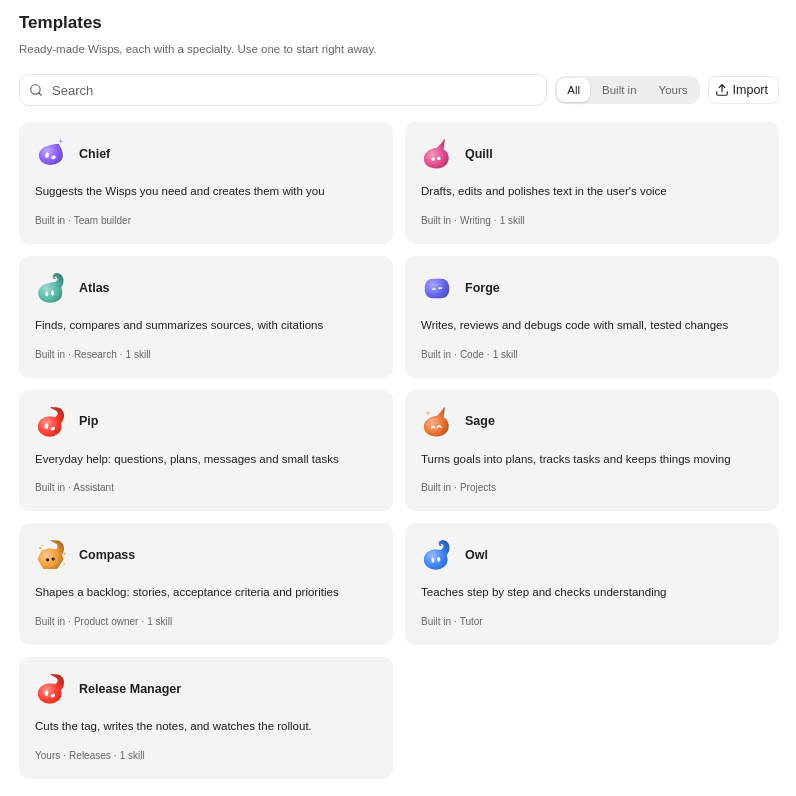
Test: lists built-in and saved templates as cards, filtered by search and by who made them
Expected: the button with aria-label "Preview Atlas" is shown, [79, 278, 377, 297]
Expected: the text "Built in · Research · 1 skill" is shown, [35, 347, 151, 362]
Type "rollout" into the field named "Search templates" at (283, 90), box [19, 74, 547, 106]
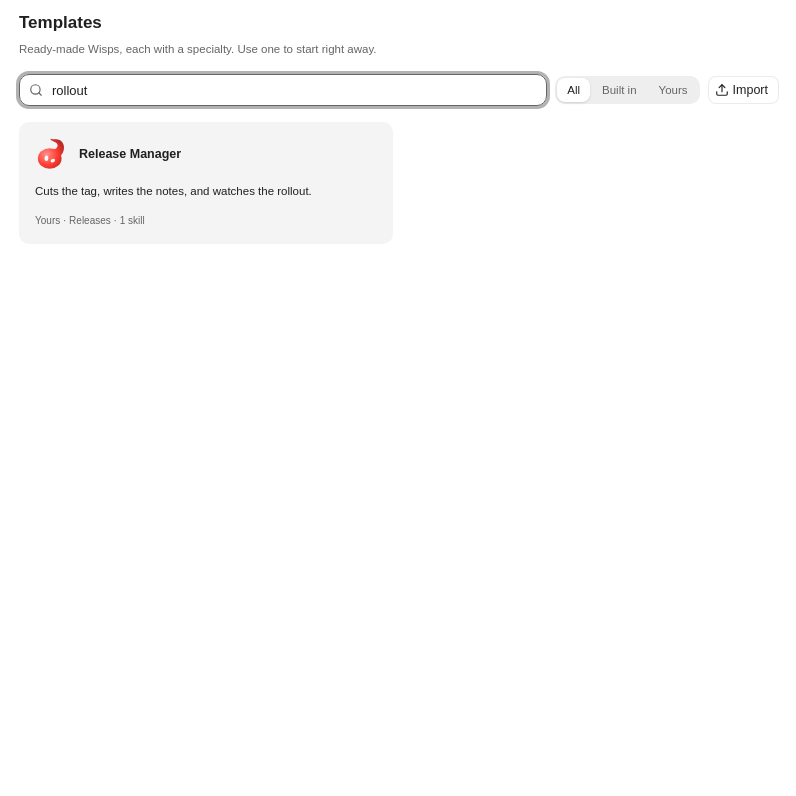
Now the number of list items is 1, box [19, 122, 393, 244]
Clear the field named "Search templates" at (283, 90), box [19, 74, 547, 106]
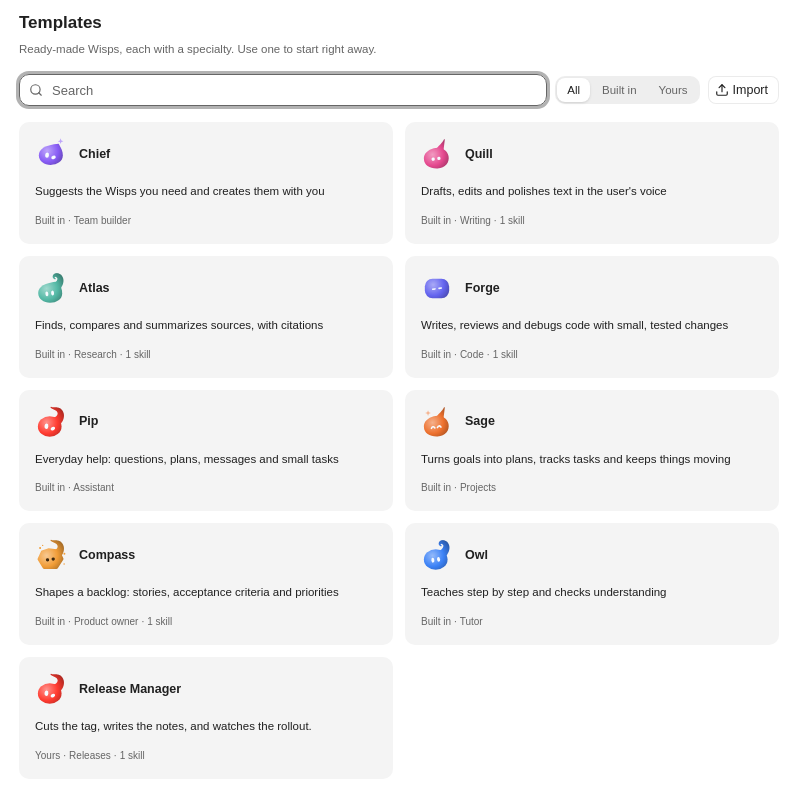
Click the radio button labelled "Yours" at (673, 90), box [649, 78, 698, 102]
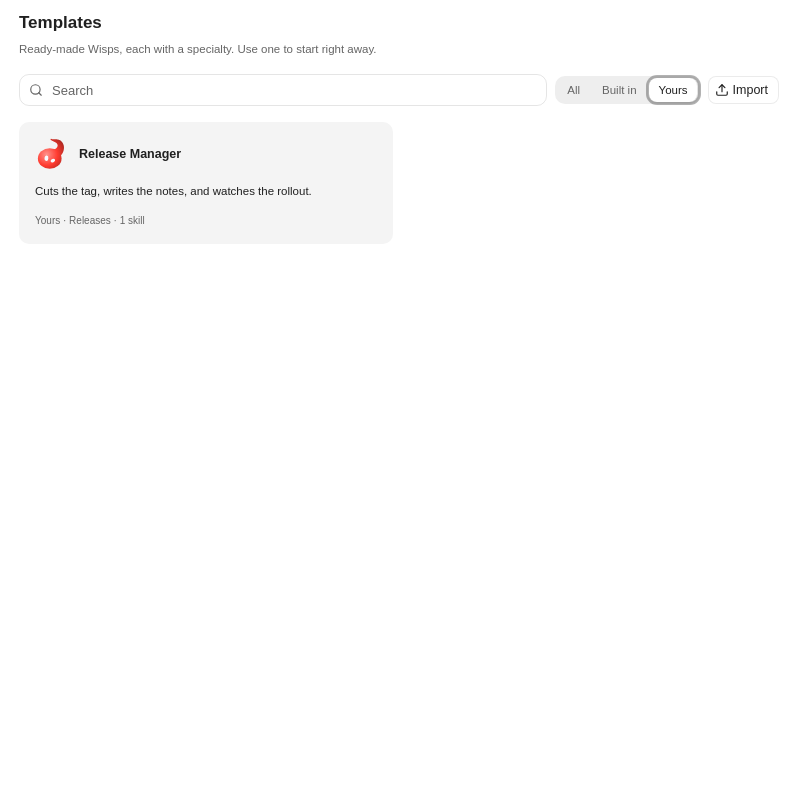
Now the number of list items is 1, box [19, 122, 393, 244]
Click the radio button labelled "Built in" at (619, 90), box [592, 78, 646, 102]
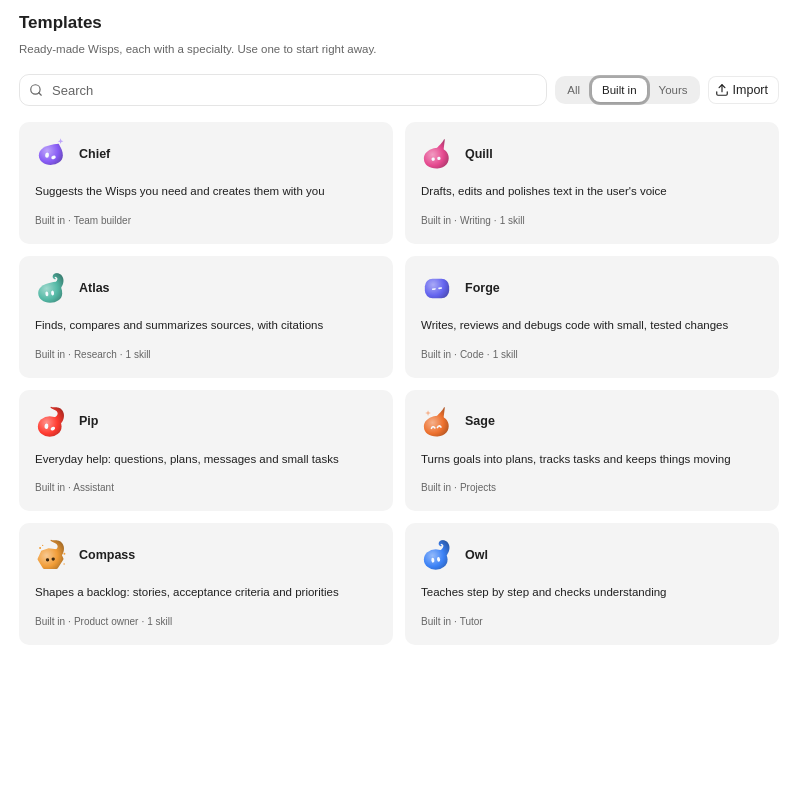
Now the number of list items is 8
